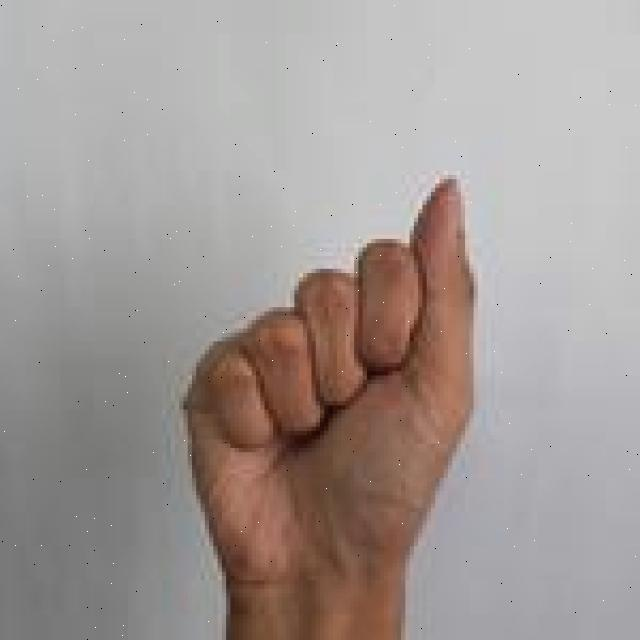A: (173, 171, 485, 640)
